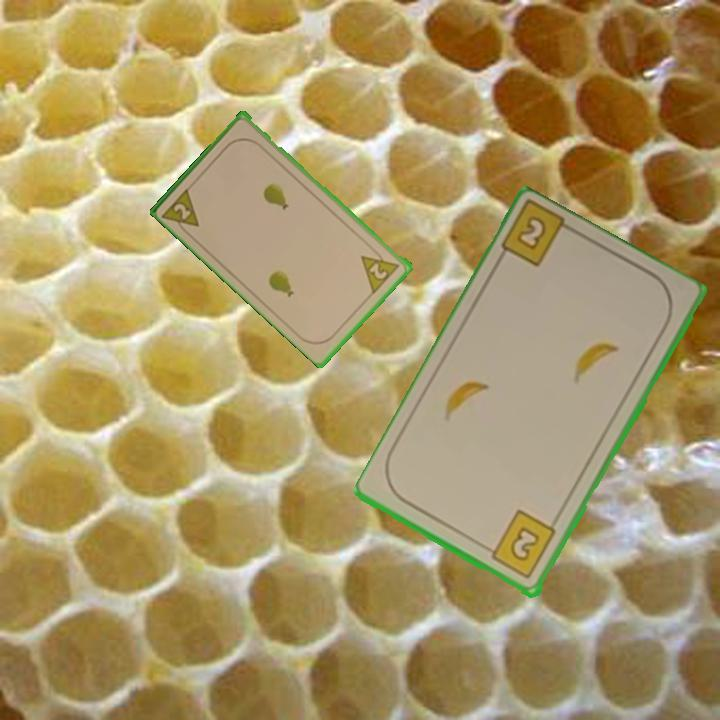2b: (482, 507, 559, 582), (513, 212, 550, 254)
2p: (159, 183, 203, 239), (357, 244, 404, 295)
